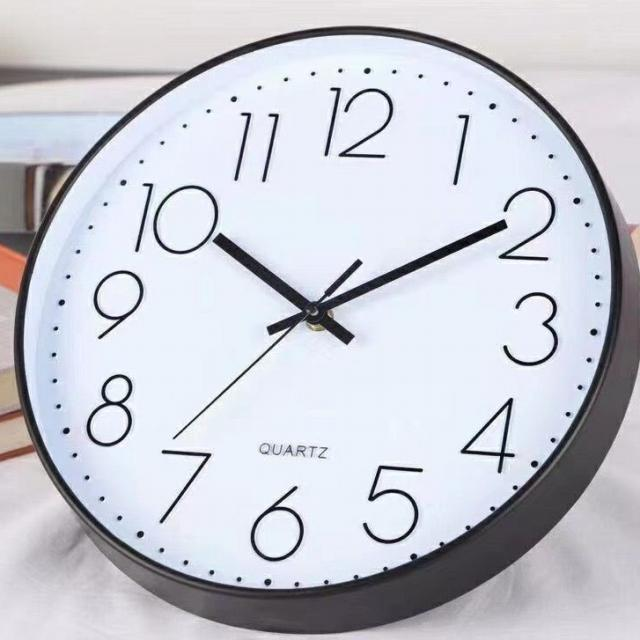clock: (0, 18, 640, 618)
